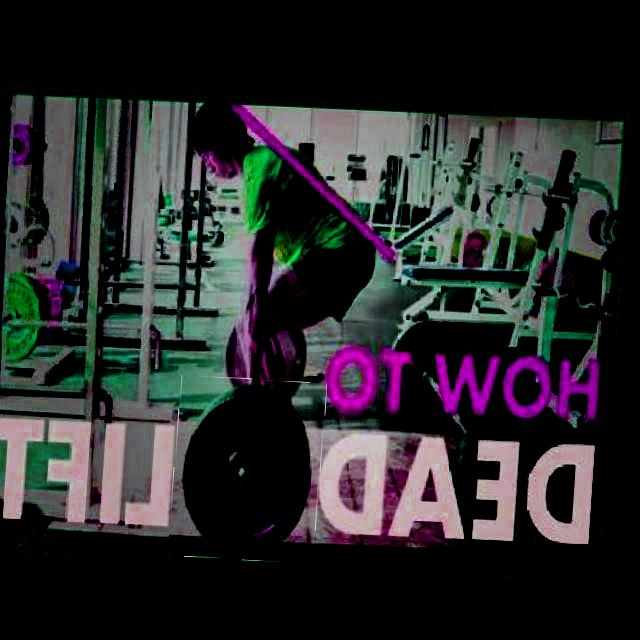barbell: (177, 375, 332, 560)
